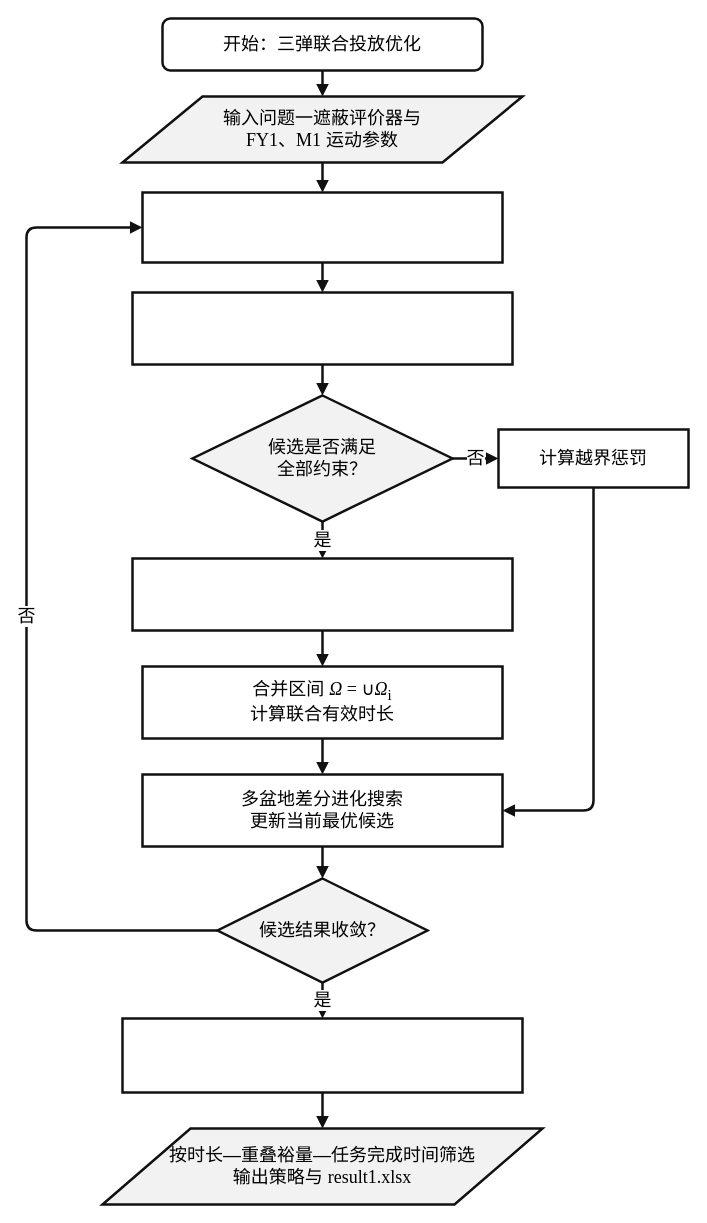
Some shapes in this 707 by 1223 pixel diagram are drawn without their labels. Here are the shapes that lost their labels. From the top down, the box of each, then its label:
(141, 191, 503, 263): 编码共享 θ, v 与三组 投放时刻、引信延时
(131, 291, 513, 365): 按松弛量解码投放时序 保证相邻投放间隔不小于 1 s
(131, 557, 513, 631): 分别求三枚烟幕弹的完整圆柱 遮蔽区间 Ω i
(121, 1017, 523, 1093): 加入时序边界构造解，执行 高密度采样、事件求根与扰动复核
